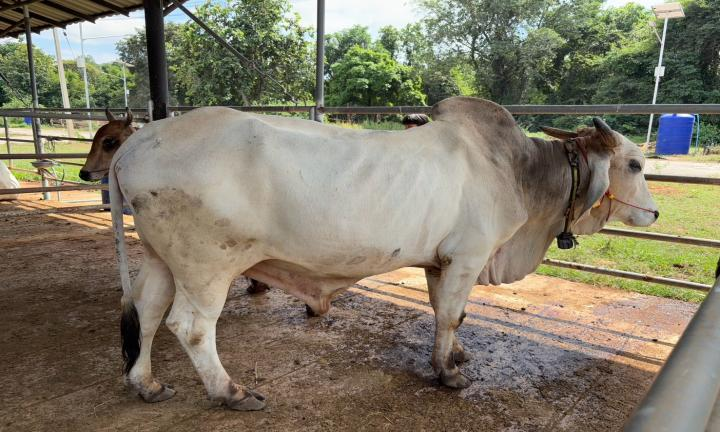Brahman: (109, 97, 658, 410)
